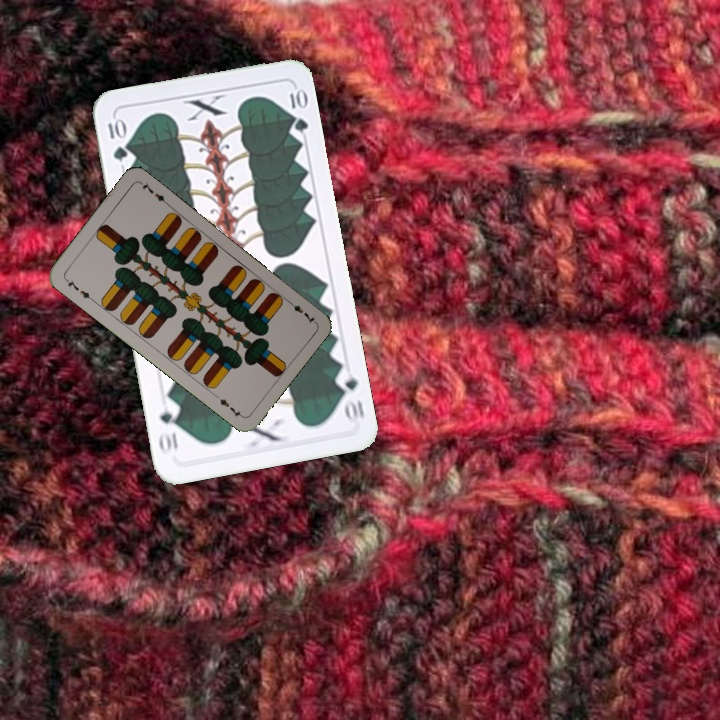E7: (283, 296, 318, 326), (61, 275, 96, 304)
G10: (332, 366, 367, 424), (104, 114, 130, 164)
